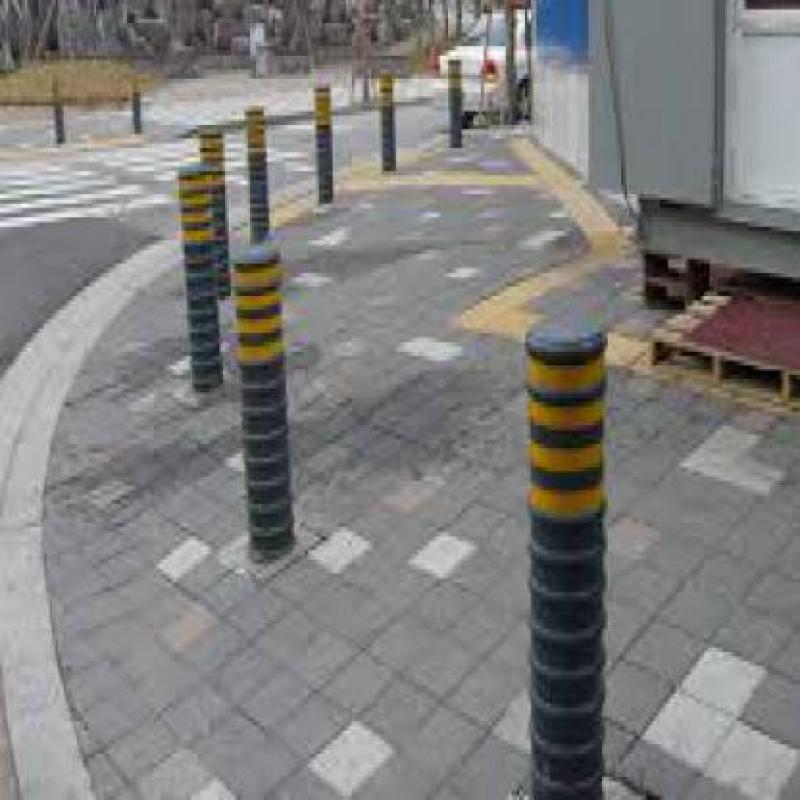bolard: (504, 277, 606, 795), (237, 246, 292, 528), (164, 158, 221, 403)
